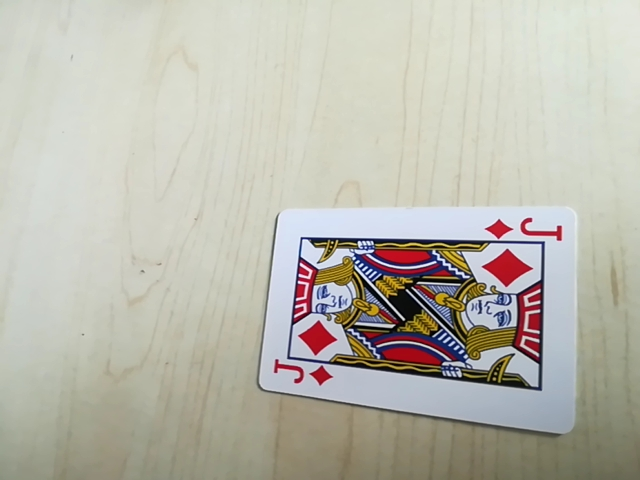fk j: (482, 213, 567, 244), (267, 360, 333, 390)
